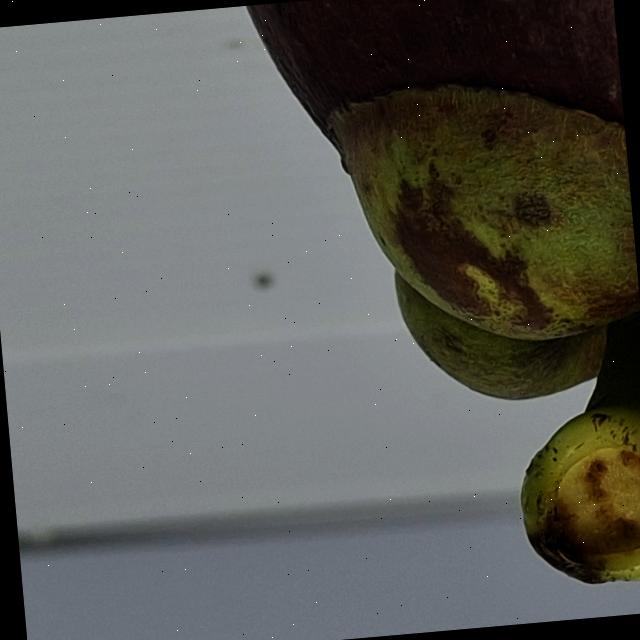mangosteen: (187, 0, 640, 640)
